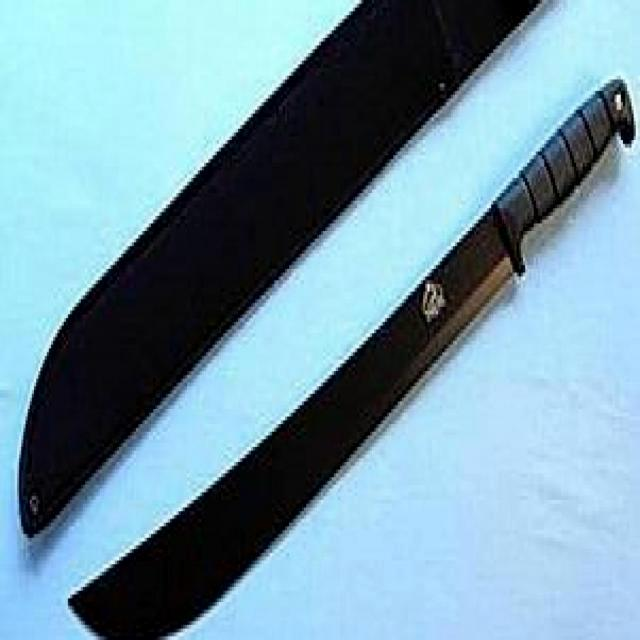long knife: (64, 72, 640, 640)
